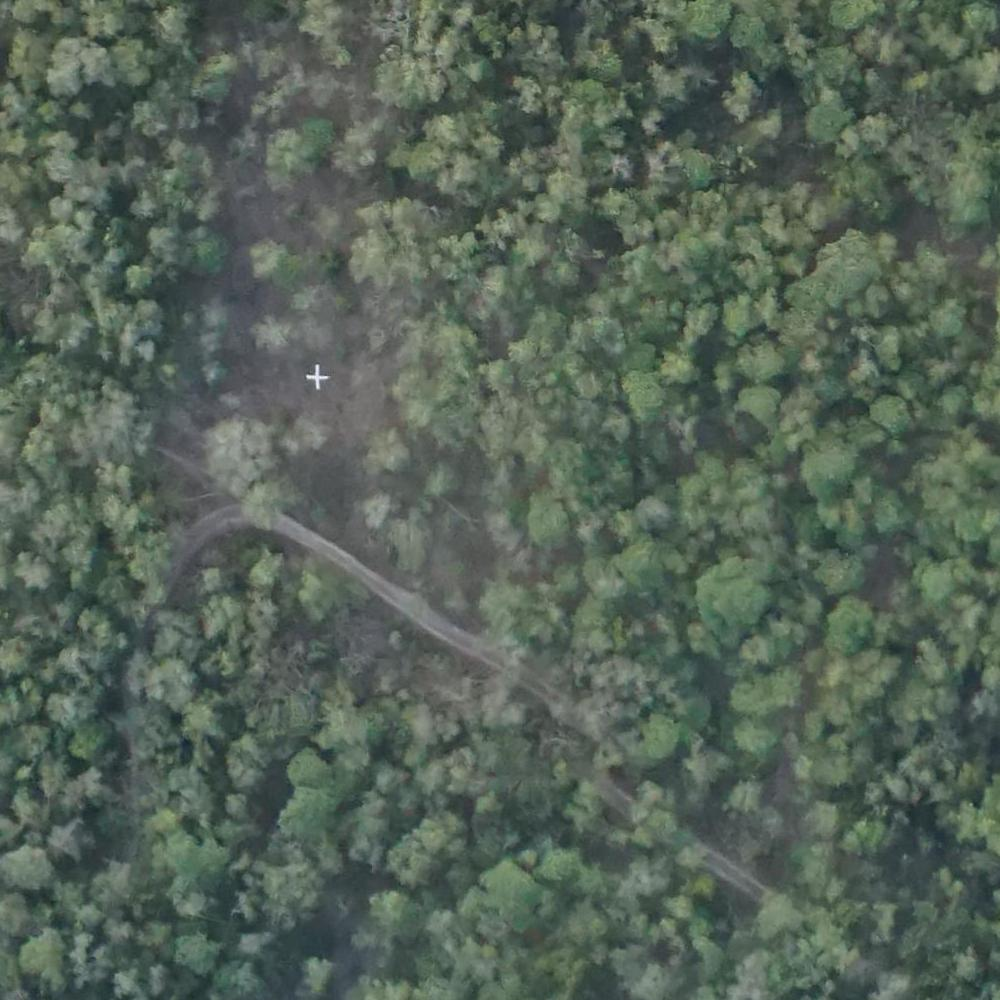tree: (690, 559, 766, 639), (813, 221, 879, 300), (214, 412, 267, 496), (482, 863, 542, 935), (802, 437, 861, 505), (161, 839, 235, 893), (273, 792, 337, 852), (9, 925, 64, 993), (383, 517, 446, 576), (38, 813, 105, 867), (730, 709, 790, 768), (632, 784, 688, 845), (612, 369, 670, 423), (522, 483, 569, 548), (126, 528, 183, 581), (620, 540, 673, 595), (171, 929, 227, 981), (146, 655, 195, 713), (809, 553, 875, 596), (154, 2, 210, 51), (840, 815, 899, 861), (824, 597, 874, 651), (282, 746, 342, 791), (239, 479, 296, 525), (1, 848, 52, 899), (482, 579, 531, 632), (573, 308, 622, 361), (627, 711, 682, 758), (415, 811, 468, 857), (193, 57, 248, 101), (374, 889, 424, 937), (805, 96, 854, 143), (756, 892, 800, 943), (67, 718, 110, 770), (624, 852, 676, 894), (366, 422, 406, 475), (581, 38, 630, 79), (682, 148, 732, 188), (736, 382, 779, 428), (228, 736, 266, 788), (263, 126, 303, 175), (670, 235, 712, 281), (864, 390, 907, 434), (297, 567, 335, 616), (246, 238, 289, 281), (44, 685, 87, 727), (186, 231, 226, 276), (872, 485, 909, 532), (12, 550, 52, 593), (408, 135, 444, 182), (724, 292, 761, 337), (725, 74, 762, 117), (258, 319, 295, 361), (39, 58, 80, 93), (245, 598, 280, 637), (597, 191, 636, 226), (423, 462, 460, 498), (546, 257, 585, 291), (729, 10, 764, 45), (152, 225, 183, 263), (531, 191, 561, 225), (703, 454, 727, 485)
